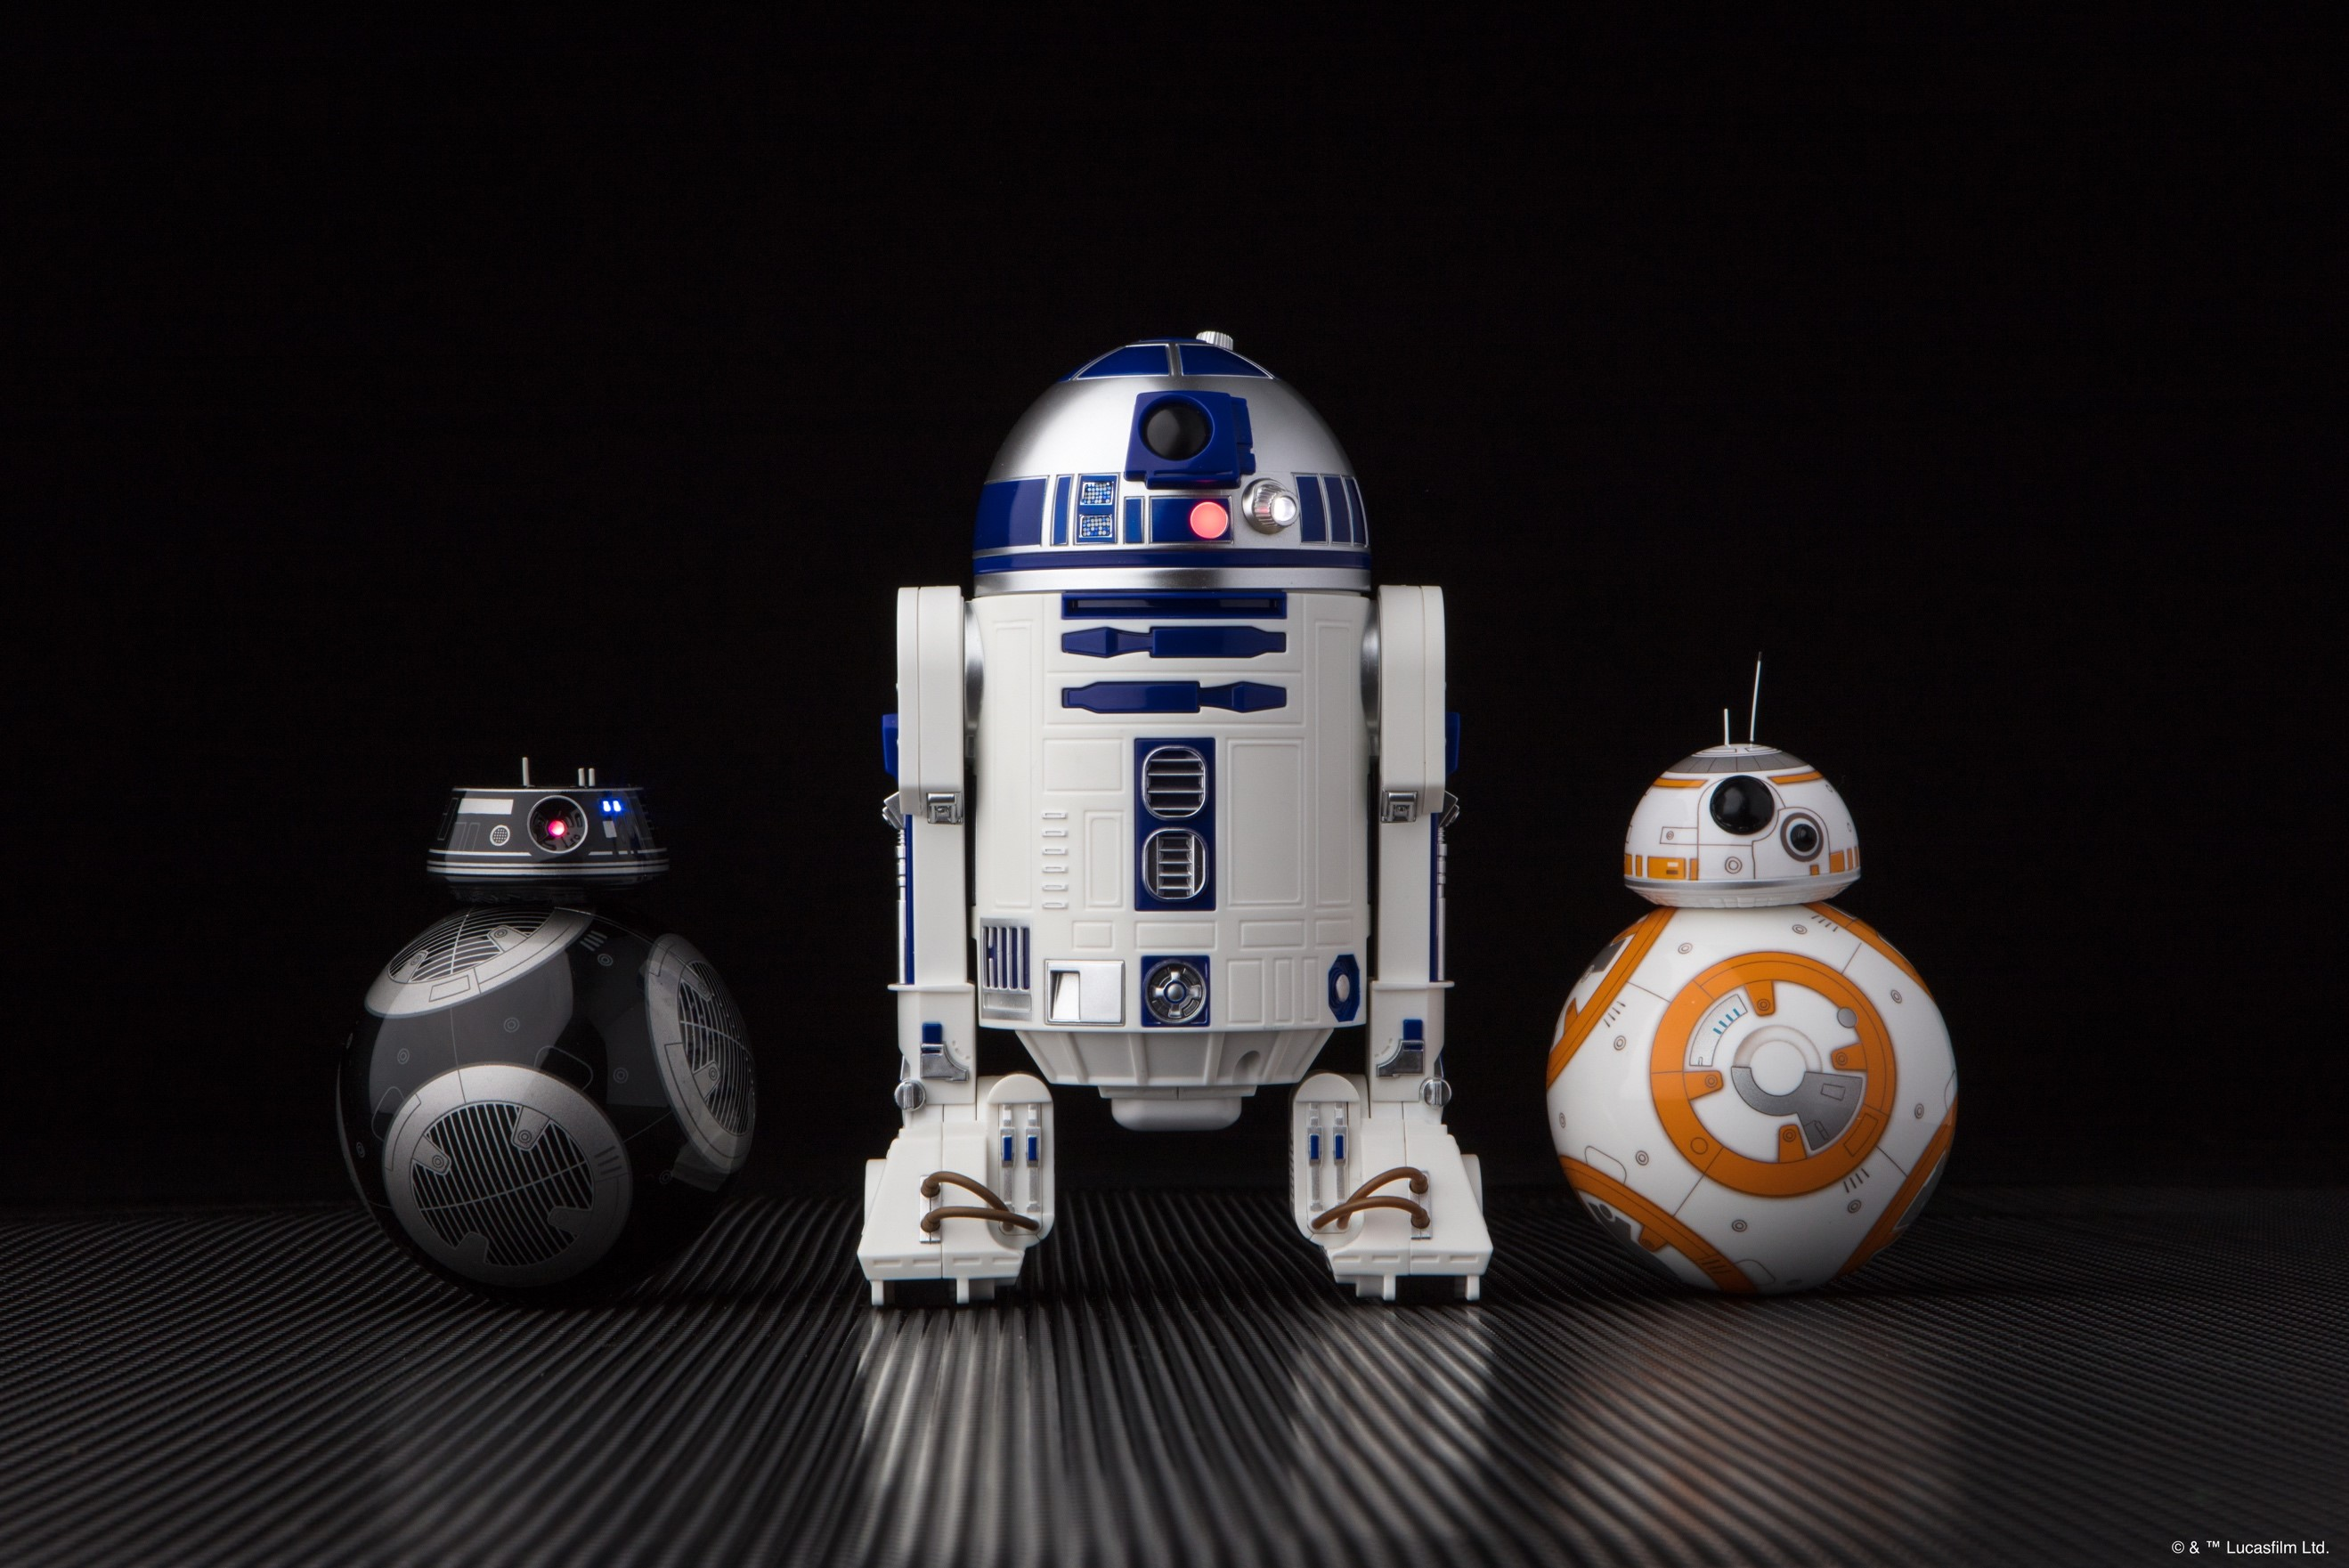r2d2: (866, 326, 1490, 1300)
